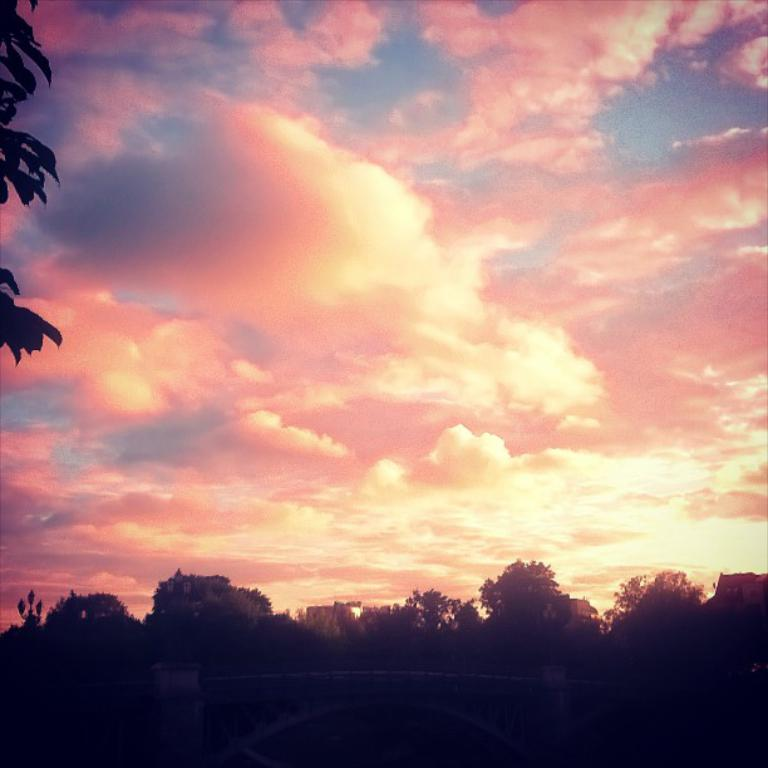Tree: (0, 558, 766, 686), (0, 0, 58, 368)
